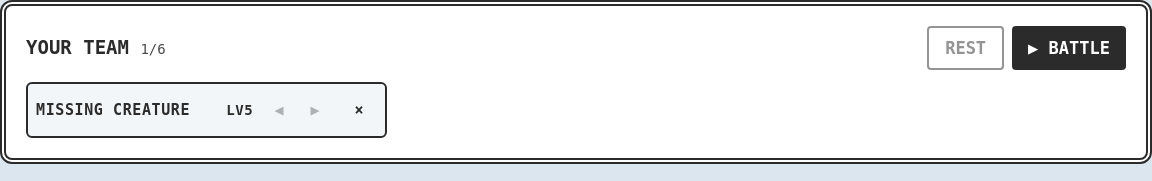
it: TeamBar › shows a creature that is no longer on file as missing
The width and height of the screenshot is (1152, 181).
Expected: the text "Missing creature" is shown, top-left (36, 102), bottom-right (190, 118)
Click the button named "Remove Missing creature from team".
click(359, 110)  # box top-left (341, 92), bottom-right (377, 128)
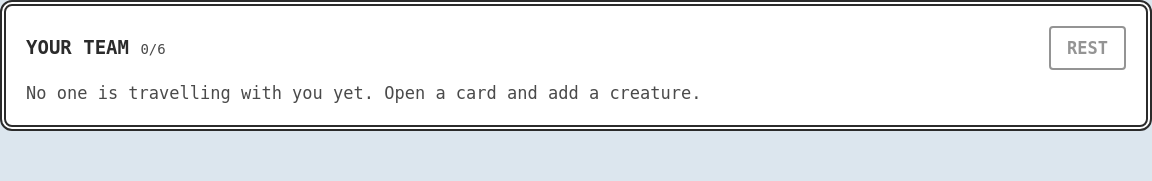
Result: the text "Open a card and add a creature" is shown at top-left (26, 83), bottom-right (702, 103)
